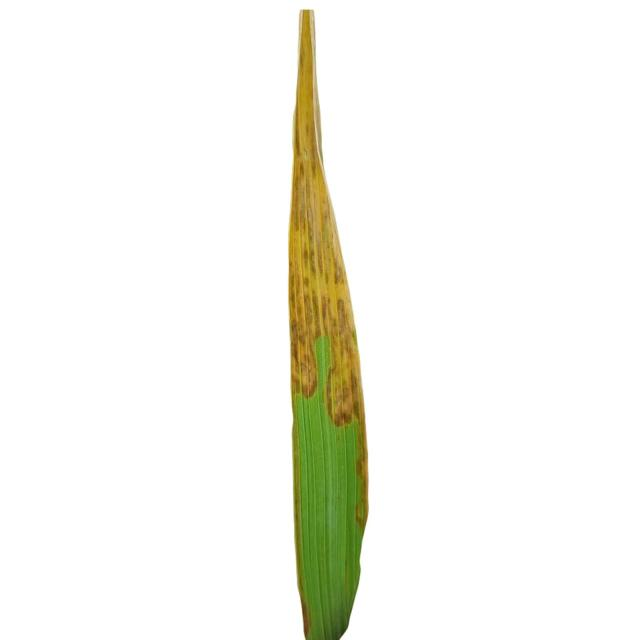Leaf scald: (227, 5, 430, 637)
